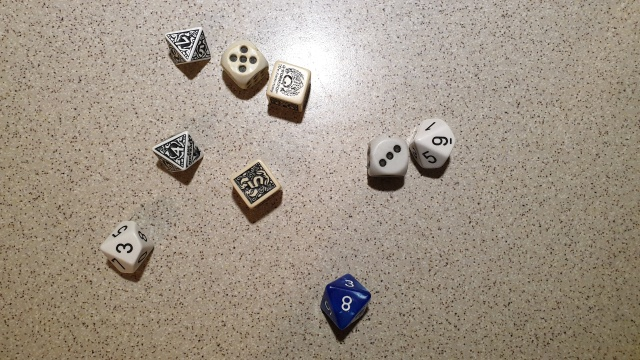d10-3: (92, 216, 162, 280)
d10-8: (314, 270, 375, 339)
d10-9: (408, 113, 460, 180)
d6-3: (360, 134, 411, 180)
d6-5: (219, 36, 266, 87)
d6p-5: (230, 160, 284, 213)
d6p-6: (263, 58, 314, 114)
d8p-4: (147, 128, 206, 177)
d8p-7: (159, 19, 214, 71)
